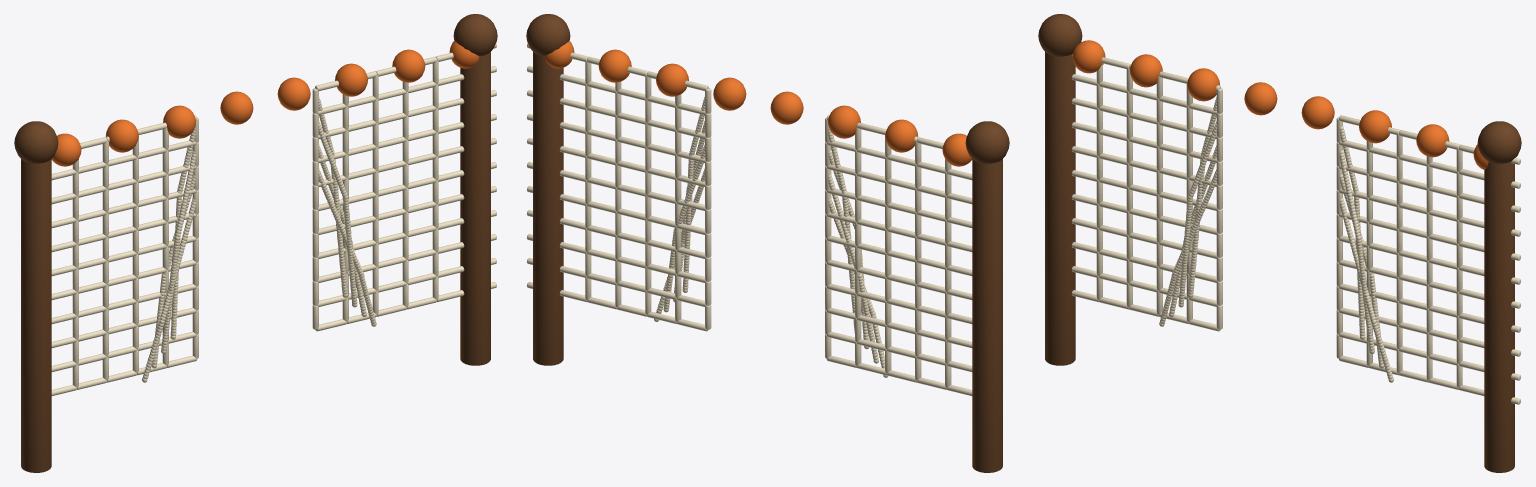
The model's file is fishing_net.glb.
3 renders of one model, left to right at view 1: azimuth 30°, elevation 25°; view 2: azimuth 150°, elevation 25°; view 3: azimuth 330°, elevation 25°, orthographic.
Parts seen in each view (by area): view 1: fishing_net; view 2: fishing_net; view 3: fishing_net.
Part boxes in pixels (box(x1,y1,x2,y2)): fishing_net: box(14, 14, 497, 472); fishing_net: box(526, 14, 1009, 472); fishing_net: box(1038, 14, 1521, 472).
Size of the model in its own units: 2.5 by 1.72 by 0.2.
